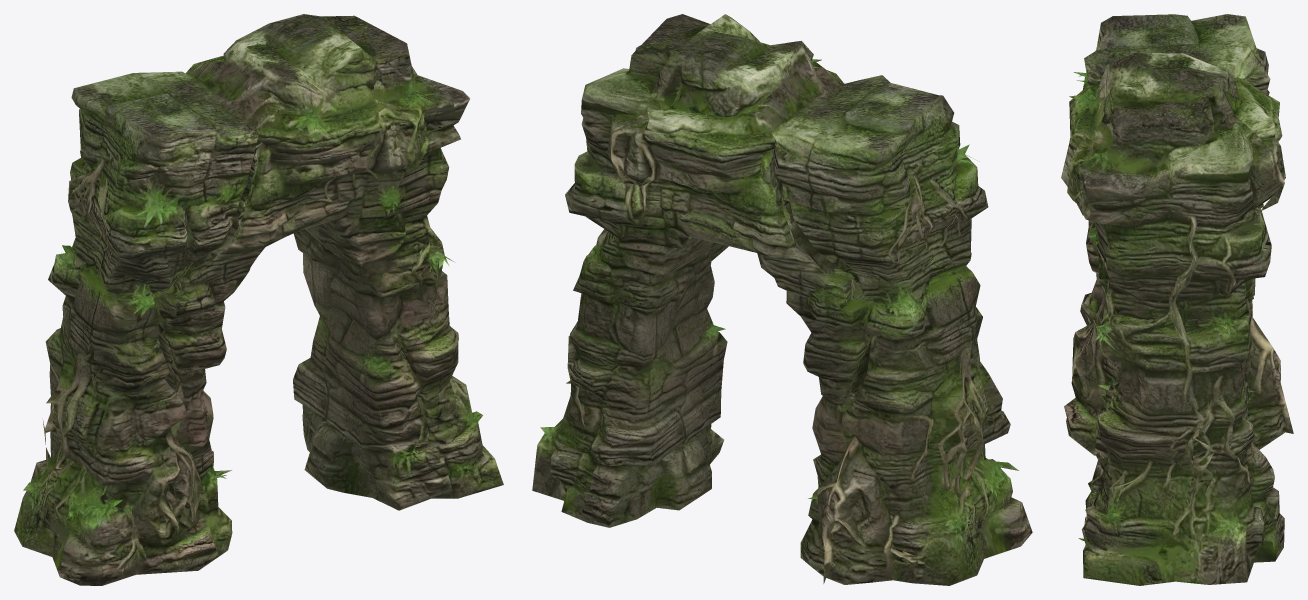
Rendered from archway.glb.
The picture shows the model from 3 angles, left to right: view 1: azimuth 30°, elevation 25°; view 2: azimuth 150°, elevation 25°; view 3: azimuth 270°, elevation 25°; orthographic projection. The views are drawn at different scales.
Visible parts, largest first — view 1: Mesh1.0; view 2: Mesh1.0; view 3: Mesh1.0.
Part boxes in pixels (x1=…): Mesh1.0: x1=14, y1=14, x2=503, y2=585; Mesh1.0: x1=532, y1=14, x2=1032, y2=585; Mesh1.0: x1=1061, y1=14, x2=1293, y2=585.
Bounding box in the file's own units: 1.88 × 1.9 × 0.9127.
Materials: 1 (1 with a texture image).
